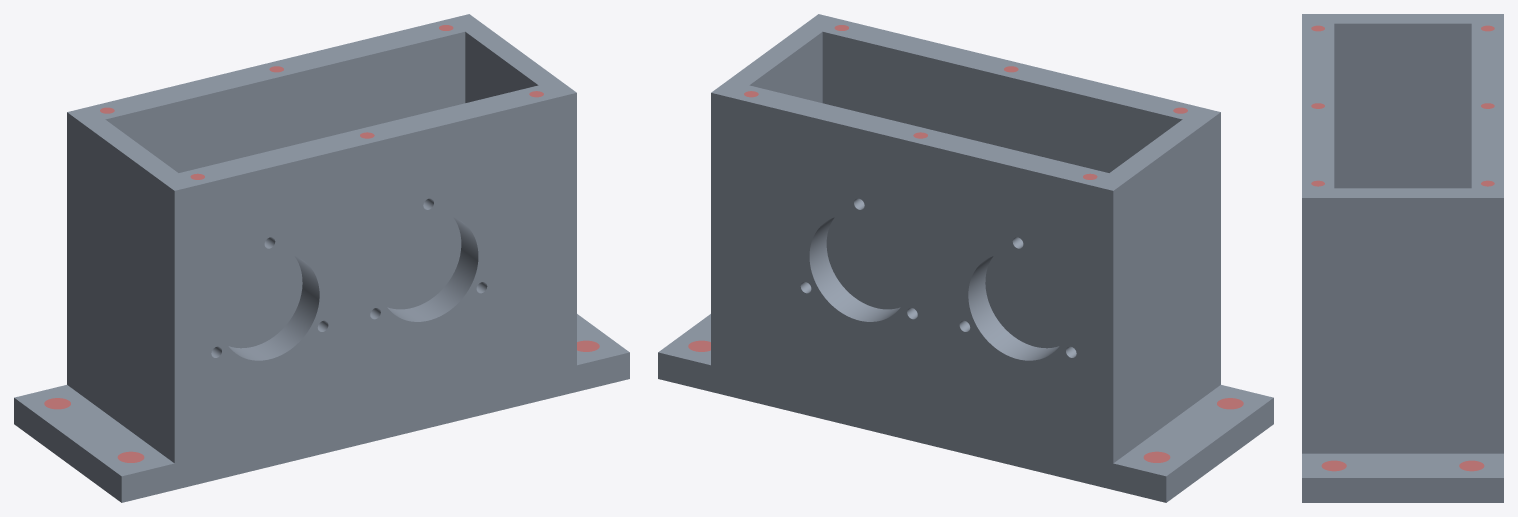
File: step_05.glb
3 views of the same model, side by side, from view 1: azimuth 30°, elevation 25°; view 2: azimuth 150°, elevation 25°; view 3: azimuth 270°, elevation 25° (orthographic). The views are drawn at different scales.
Parts seen in each view (by area): view 1: part__gearbox housing, removed__gearbox housing; view 2: part__gearbox housing, removed__gearbox housing; view 3: part__gearbox housing, removed__gearbox housing.
Boxes of the visible parts, left/top/right/bottom form: part__gearbox housing: left=14, top=14, right=629, bottom=502; removed__gearbox housing: left=44, top=25, right=599, bottom=462; part__gearbox housing: left=658, top=14, right=1273, bottom=502; removed__gearbox housing: left=688, top=25, right=1243, bottom=462; part__gearbox housing: left=1302, top=14, right=1503, bottom=502; removed__gearbox housing: left=1311, top=25, right=1494, bottom=471.
Size of the model in its own units: 240 by 135 by 88.
